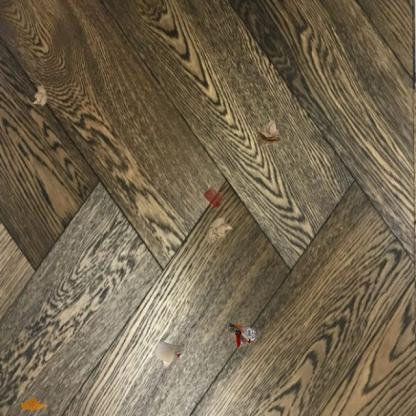dirty: (226, 321, 262, 349), (153, 338, 184, 370), (204, 216, 233, 245), (255, 120, 283, 150), (31, 84, 49, 107)
liquid: (202, 186, 223, 208), (19, 397, 47, 412)
